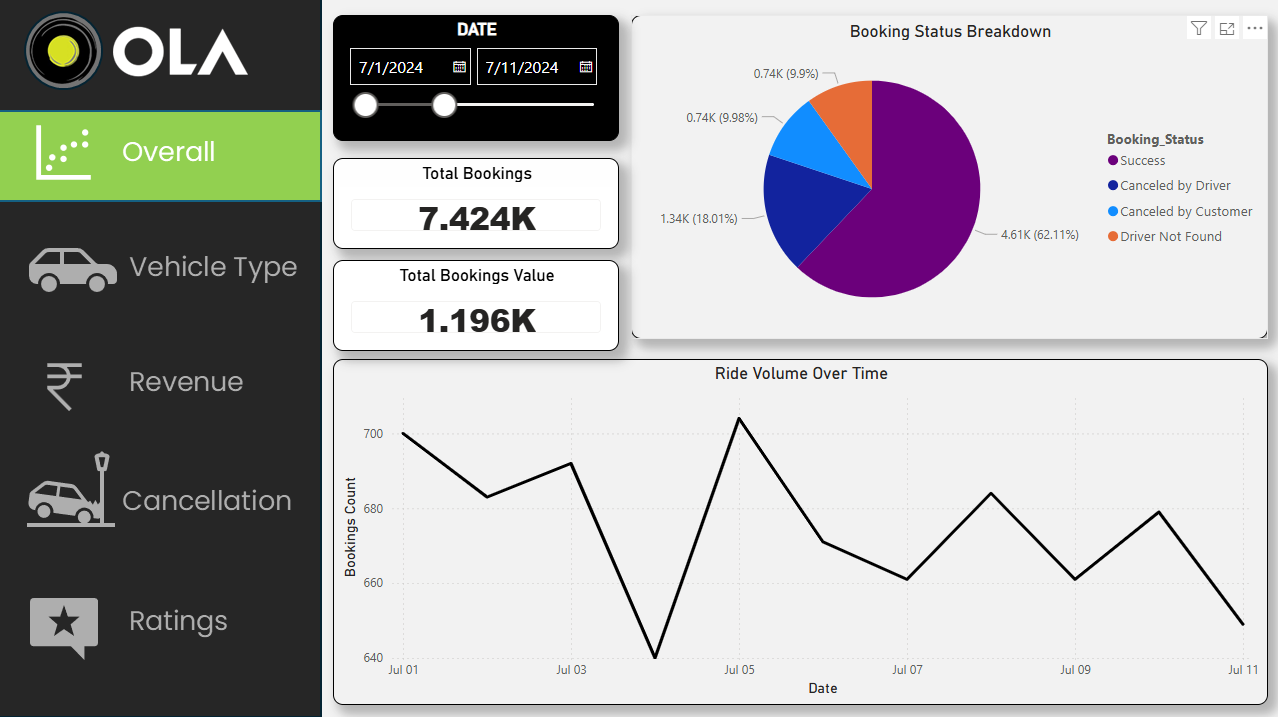

This screenshot's page, from the dashboard's own definition file:
{"tool":"powerbi","page":{"name":"Overall","canvas":[1280,720],"ordinal":0},"visuals":[{"type":"actionButton","box":[0,223.4,324.5,91.3],"z":0},{"type":"actionButton","box":[0,339.6,324.5,90.4],"z":1000},{"type":"actionButton","box":[0,443.3,324.5,95.8],"z":2000},{"type":"actionButton","box":[0,580.8,324.5,93.1],"z":3000},{"type":"actionButton","box":[0,110.8,324.5,94],"z":4000},{"type":"lineChart","title":"Ride Volume Over Time","fields":{"Y":["CountNonNull(Bookings sample data OLA.Booking_ID)"],"Category":["Bookings sample data OLA.Date"]},"box":[335,360,935,346],"z":5000},{"type":"pieChart","title":"Booking Status Breakdown","fields":{"Category":["Bookings sample data OLA.Booking_Status"],"Y":["CountNonNull(Bookings sample data OLA.Booking_ID)"]},"box":[633,16,637,324],"z":6000},{"type":"slicer","title":"DATE","fields":{"Values":["Bookings sample data OLA.Date"]},"box":[335,16,286,126],"z":7000},{"type":"cardVisual","title":"Total Bookings","fields":{"Data":["Count(Bookings sample data OLA.Booking_ID)"]},"box":[335,159,286,91],"z":8000},{"type":"cardVisual","title":"Total Bookings Value","fields":{"Data":["Count(Bookings sample data OLA.Booking_Value)"]},"box":[335,261,286,91],"z":9000}]}

Visuals, with their boxes in screenshot pixels (x1, y1, x2, y2), scaled from the page's 1280x720 canvas onto the 1278x717 screenshot:
actionButton: 0 222 324 313
actionButton: 0 338 324 428
actionButton: 0 441 324 537
actionButton: 0 578 324 671
actionButton: 0 110 324 204
"Ride Volume Over Time" lineChart: 334 358 1268 703
"Booking Status Breakdown" pieChart: 632 16 1268 339
"DATE" slicer: 334 16 620 141
"Total Bookings" cardVisual: 334 158 620 249
"Total Bookings Value" cardVisual: 334 260 620 351
